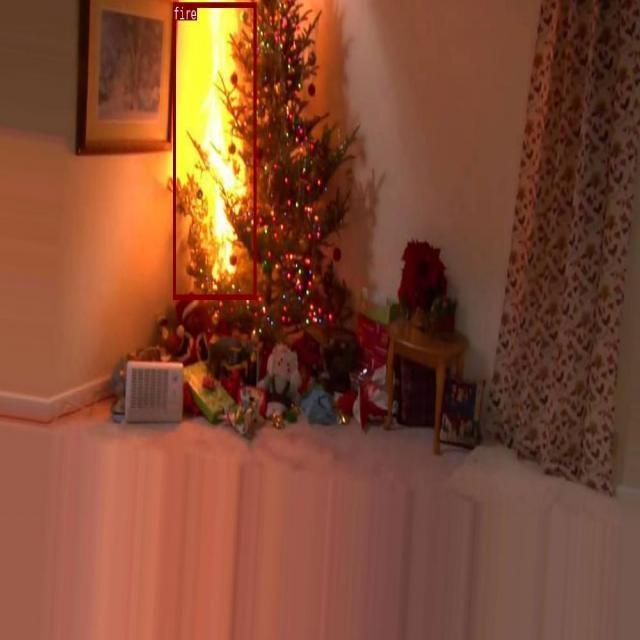fire: (172, 2, 256, 298)
